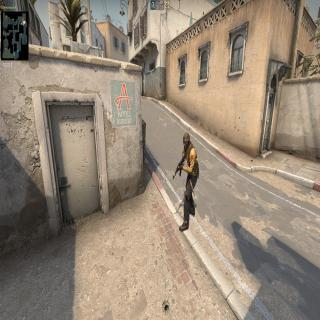T-Head: (182, 131, 191, 152)
